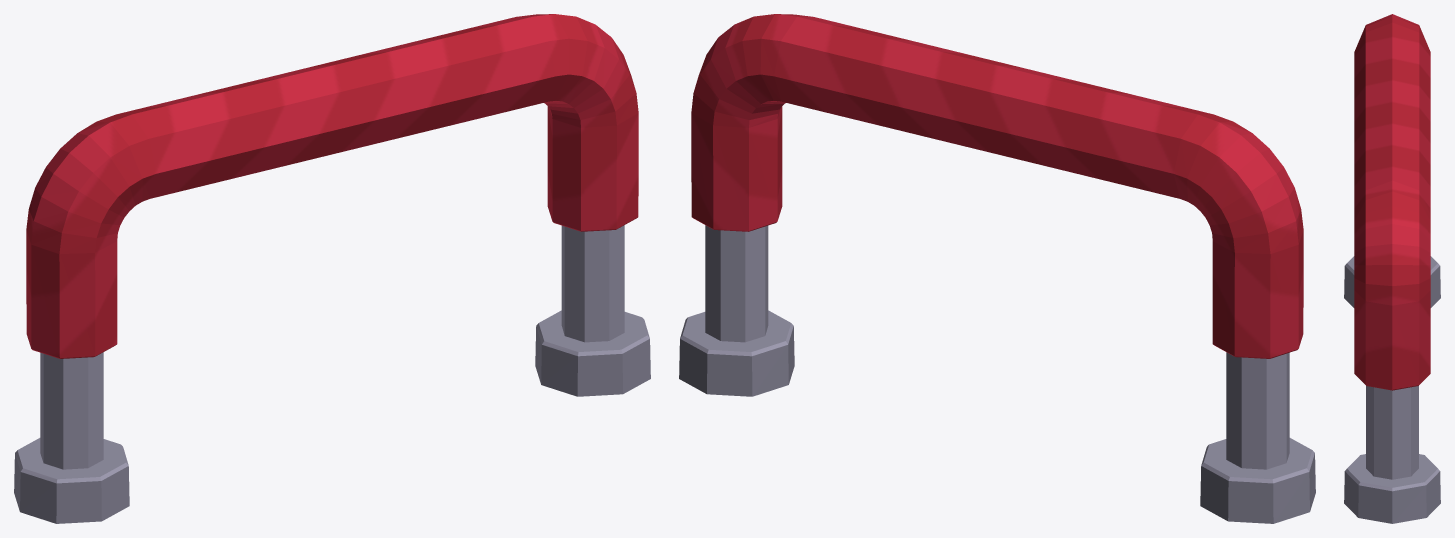
The model's file is Hurdle11.fbx.
3 views of the same model, side by side, from view 1: azimuth 30°, elevation 25°; view 2: azimuth 150°, elevation 25°; view 3: azimuth 270°, elevation 25° (orthographic). The views are drawn at different scales.
Parts seen in each view (by area): view 1: Hurdle11; view 2: Hurdle11; view 3: Hurdle11.
Boxes of the visible parts, x1,y1,x2,y2 form: Hurdle11: (14,14,650,523); Hurdle11: (679,14,1315,523); Hurdle11: (1344,14,1440,523).
Size of the model in its own units: 1.96 by 1.11 by 0.3262.
1 material, 1 textured.
